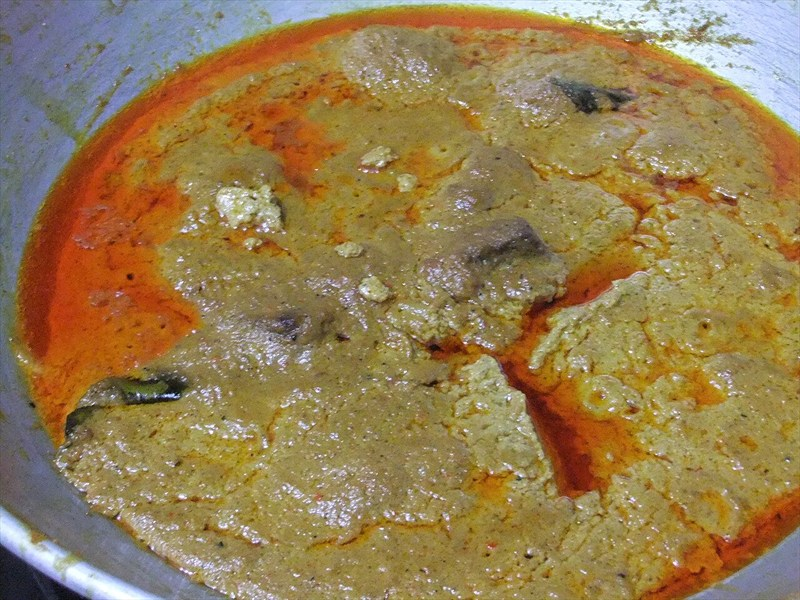Rendang: (16, 17, 753, 581)
